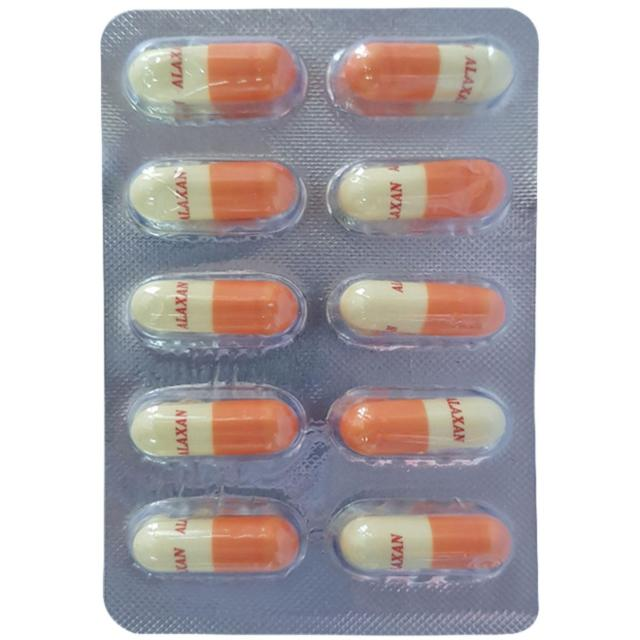blister: (91, 3, 549, 638)
